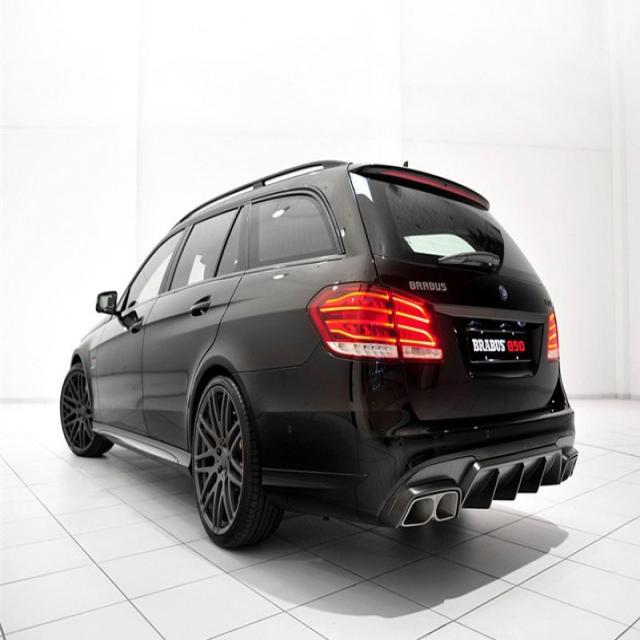back_glass: (342, 164, 550, 296)
back_left_side_light: (307, 278, 444, 361)
back_right_side_light: (544, 305, 562, 367)
door: (144, 200, 253, 434)
front_left_side_door: (90, 221, 193, 454)
front_left_side_mirror: (94, 286, 122, 316)
rear_bumper: (343, 348, 579, 530)
wheel: (190, 371, 282, 550), (61, 366, 118, 460)
